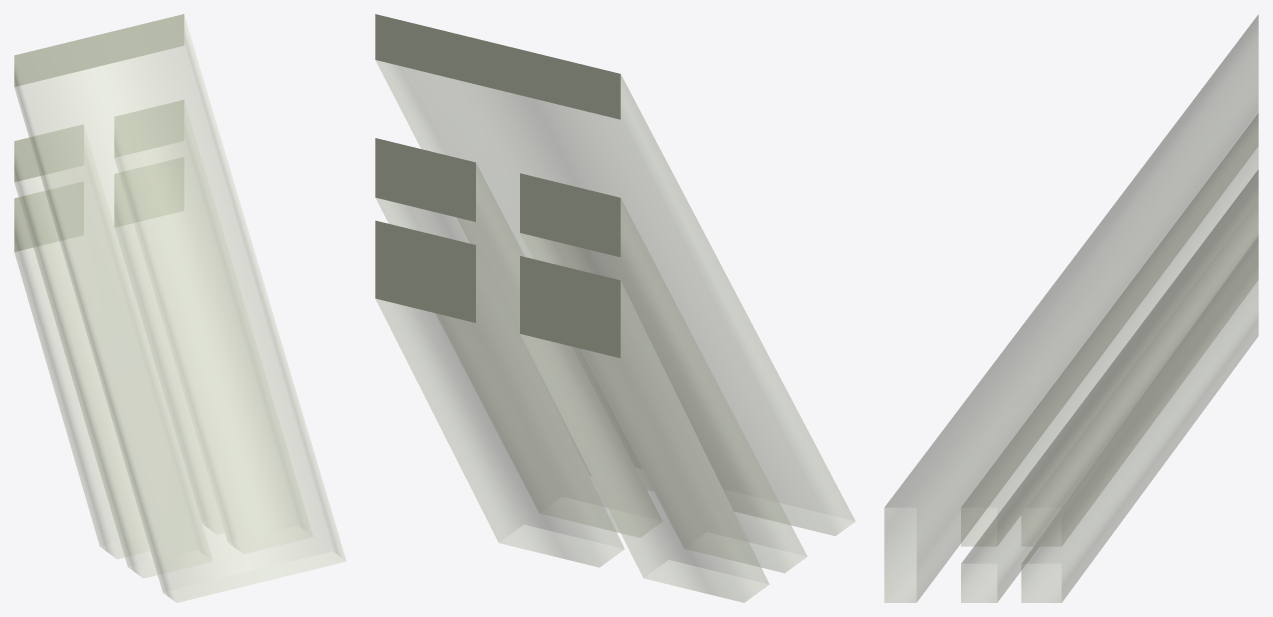
File: Poly_Window_01_Light_A.obj
The picture shows the model from 3 angles, left to right: view 1: azimuth 30°, elevation 25°; view 2: azimuth 150°, elevation 25°; view 3: azimuth 270°, elevation 25°; orthographic projection. The views are drawn at different scales.
Visible parts, largest first — view 1: light, Light_inside; view 2: light, Light_inside; view 3: light.
Part boxes in pixels (bbox=[...]): light: bbox=[14, 14, 346, 602]; Light_inside: bbox=[14, 14, 184, 251]; light: bbox=[375, 60, 855, 602]; Light_inside: bbox=[375, 14, 620, 358]; light: bbox=[884, 14, 1258, 602].
Bounding box in the file's own units: 0.56 × 1.35 × 0.928.
2 materials, 2 textured.
